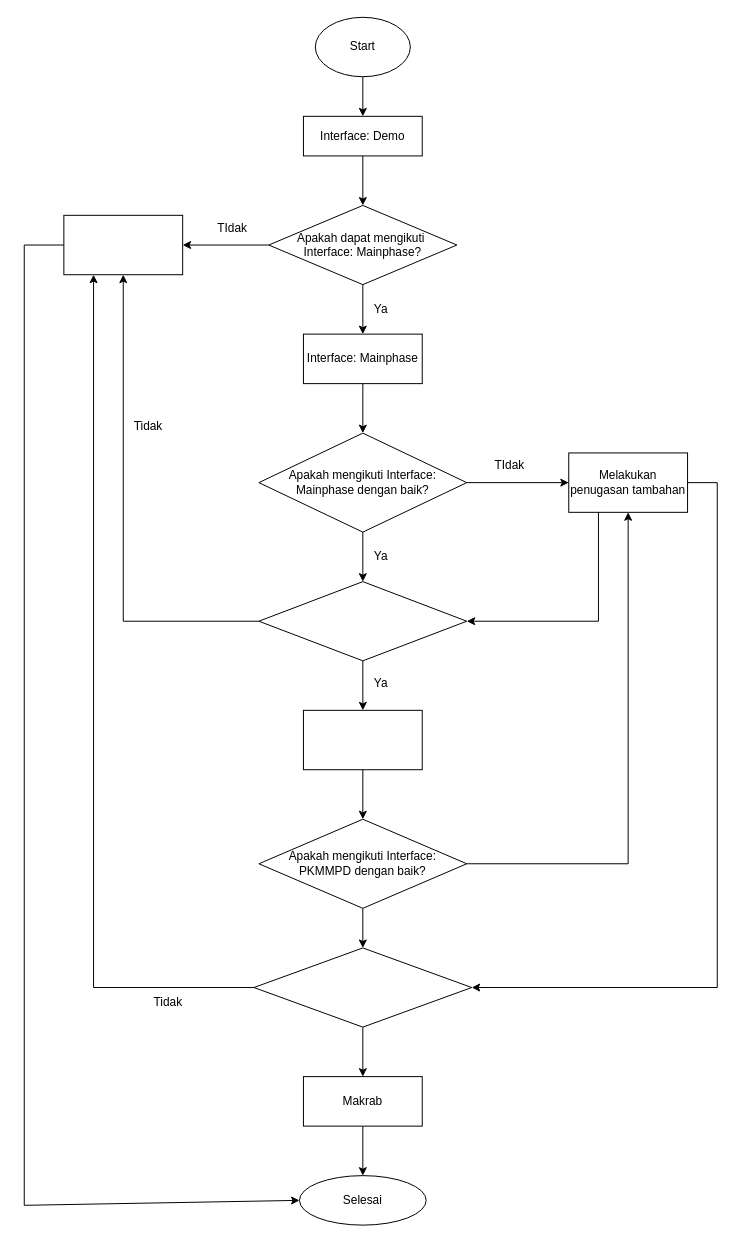
Image size: 743x1242. Some labels were removed from this diagram. The shapes that lost their labels are listed below. From the top down, each one's centre as x and y in pixels, then its label:
At (x=123, y=244): "Melakukan mekanisme perizinan".
At (x=362, y=621): "Apakah dapat mengikuti Interface: PKMMPD?".
At (x=362, y=739): "Interface: PKKMPD".
At (x=362, y=987): "Apakah dapat mengikuti Interface: Makrab?".
